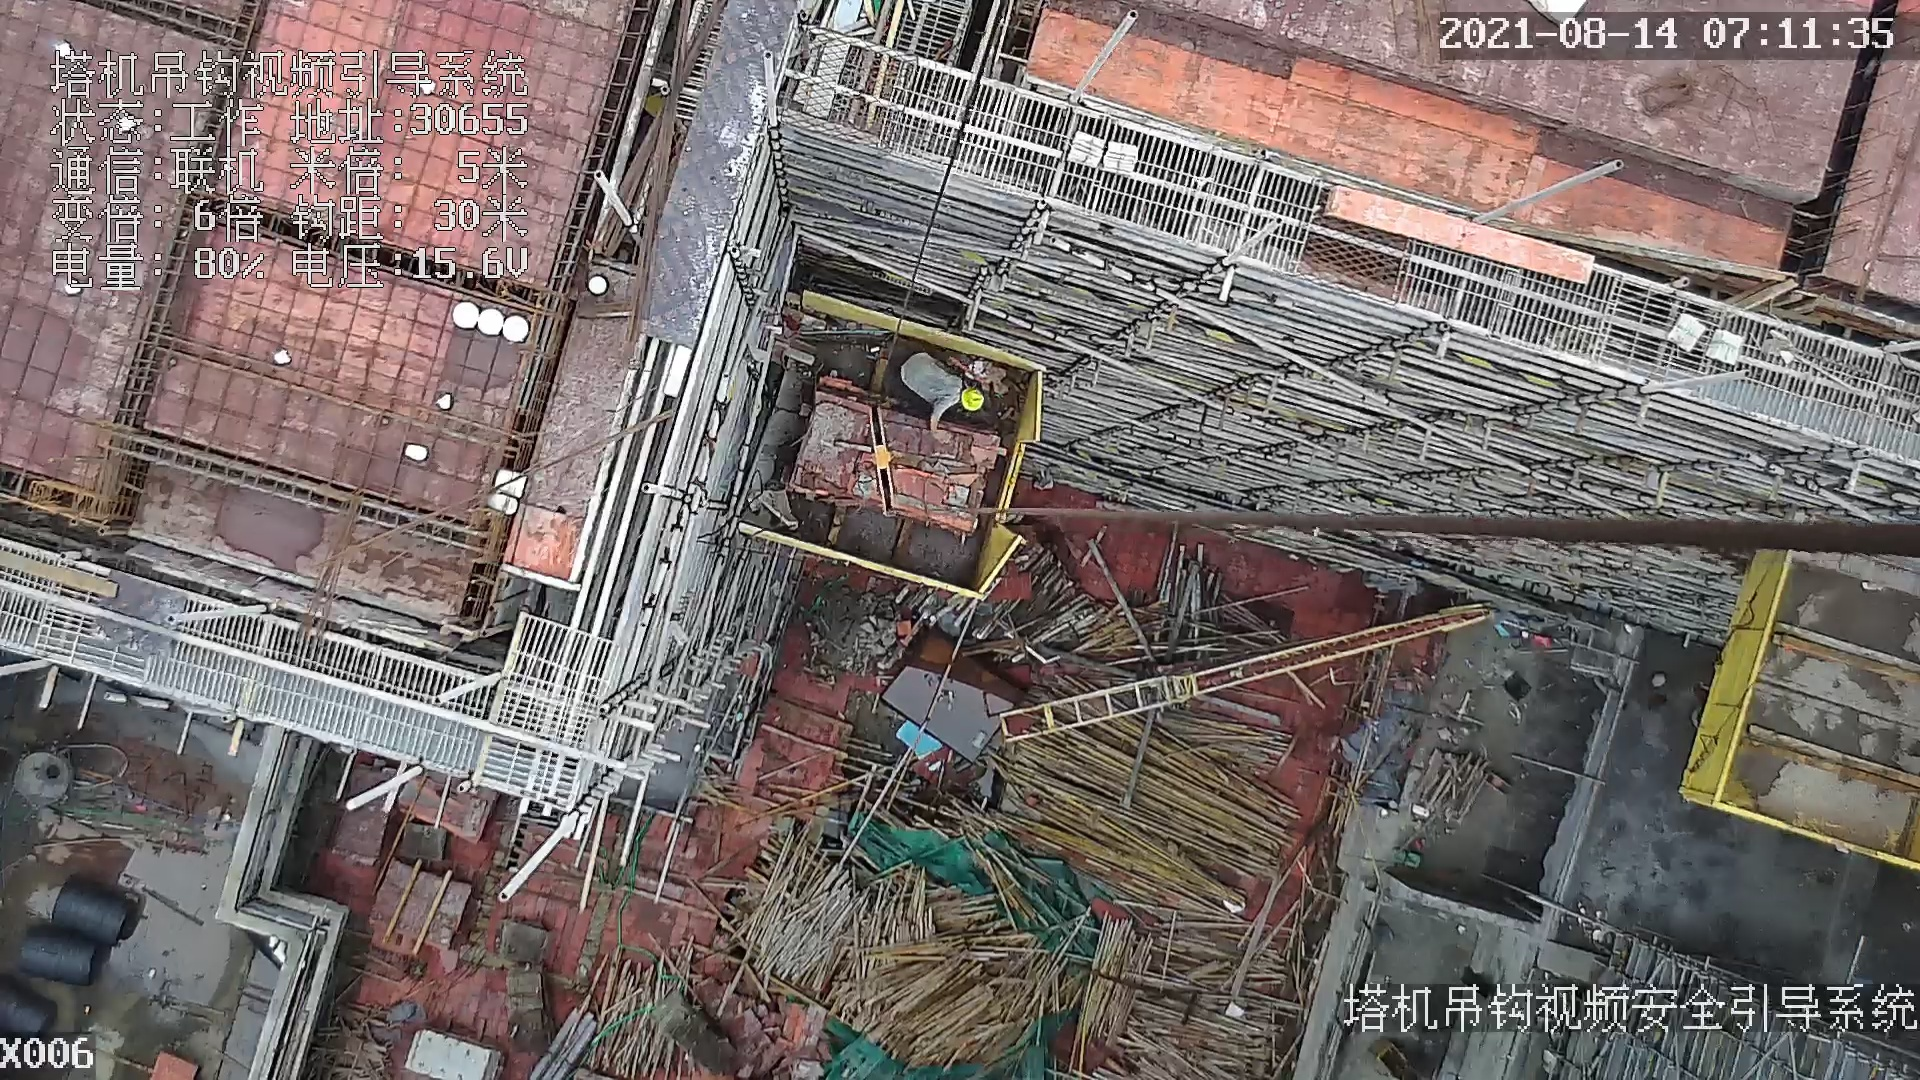helmet: (961, 384, 989, 418)
hook: (864, 405, 904, 519)
person: (900, 353, 986, 435)
